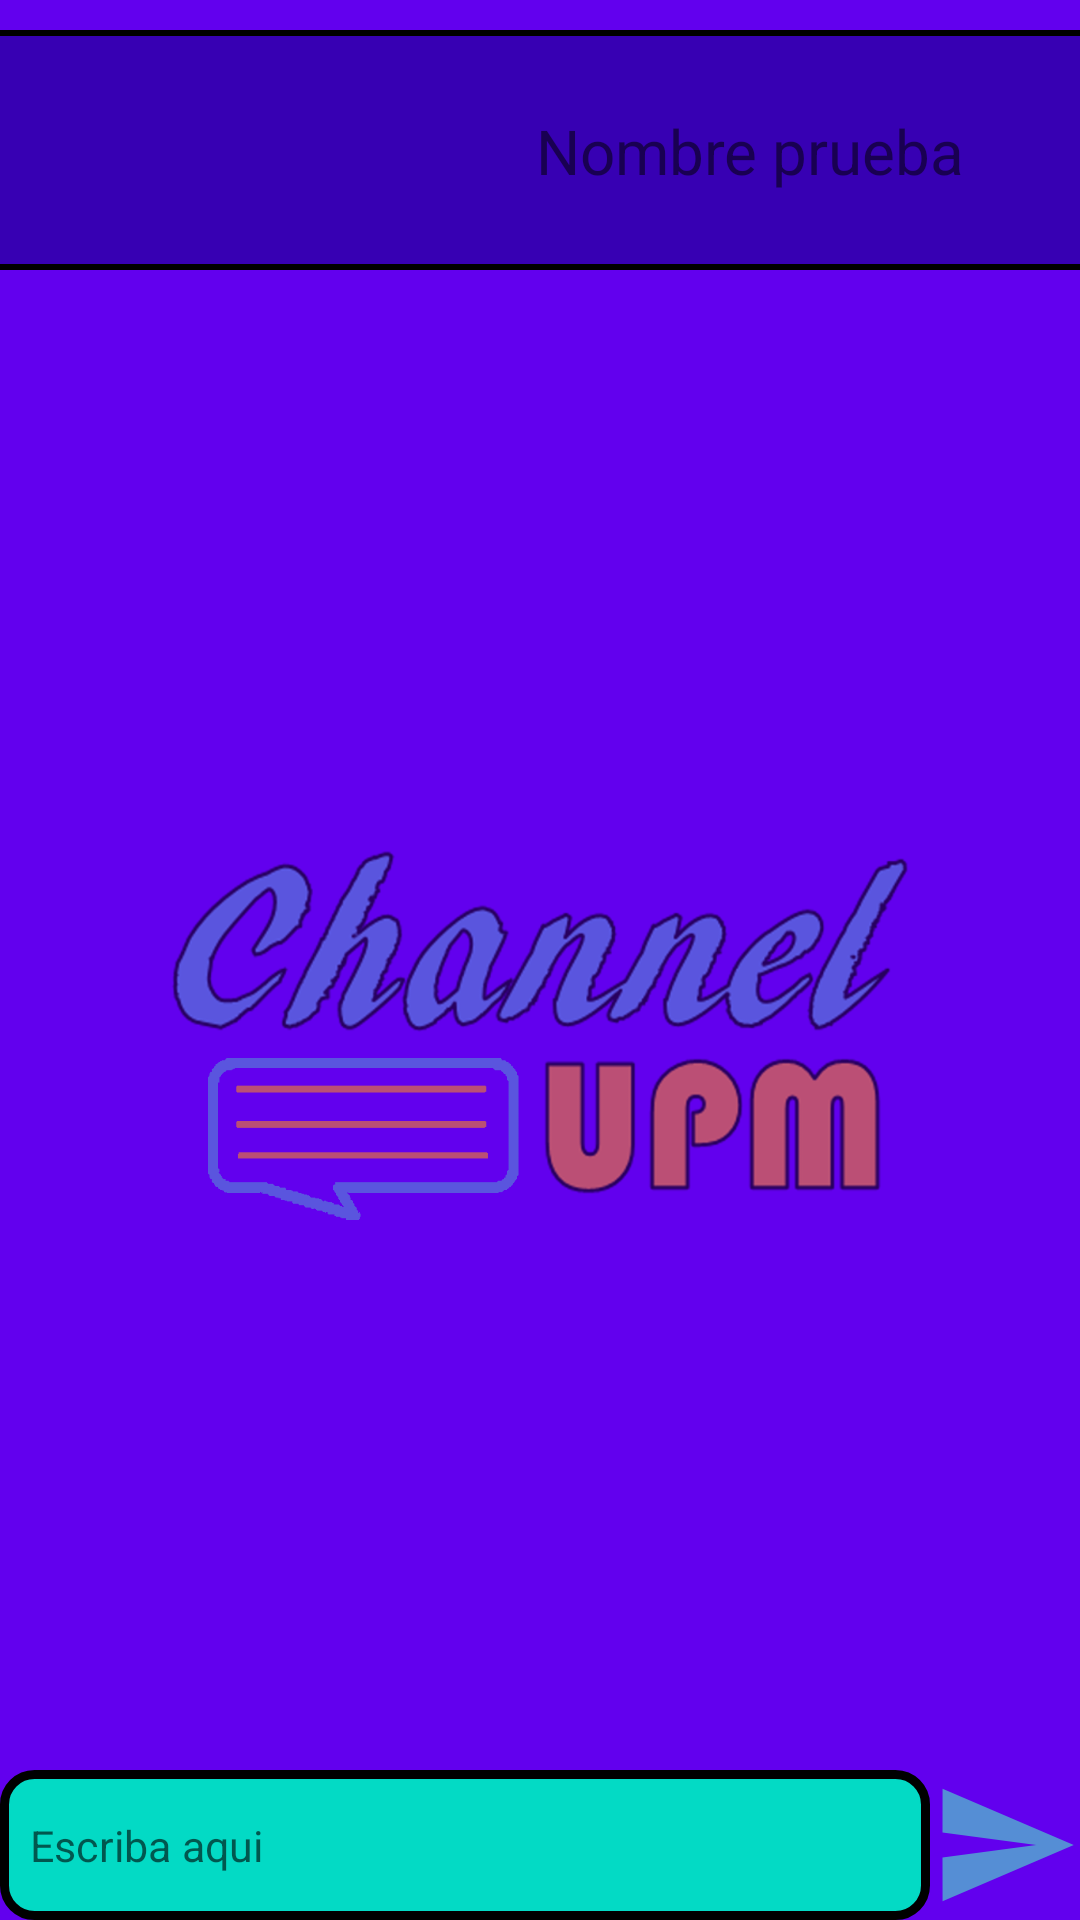

Point at icon controls on the screen. Image size 1080 x 1920, points as (x=x, y=y).
send: (x=1007, y=1845)
